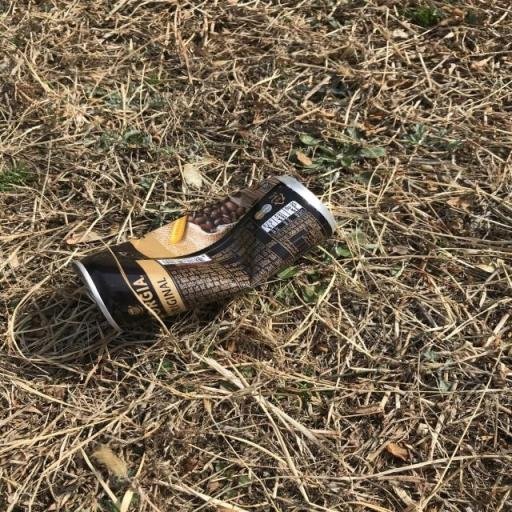metal: (58, 172, 364, 363)
